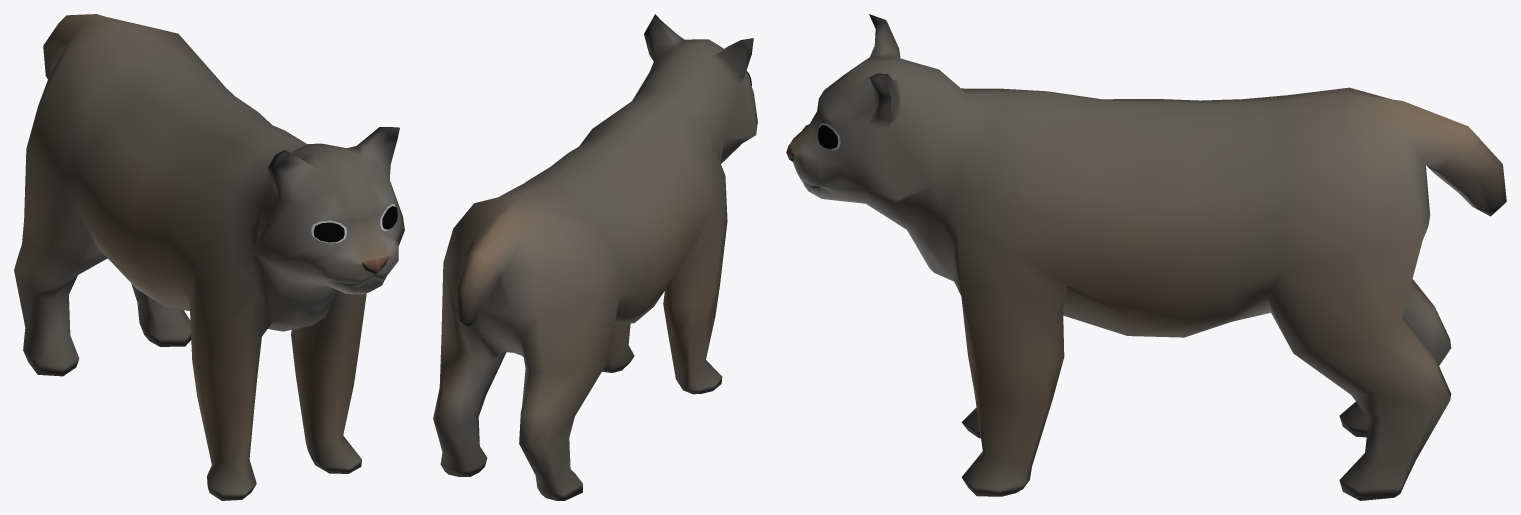
File: BobCat.gltf
The picture shows the model from 3 angles, left to right: view 1: azimuth 30°, elevation 25°; view 2: azimuth 150°, elevation 25°; view 3: azimuth 270°, elevation 25°; orthographic projection. The views are drawn at different scales.
Parts seen in each view (by area): view 1: base.054; view 2: base.054; view 3: base.054.
Part boxes in pixels (bbox=[...]): base.054: bbox=[14, 14, 404, 500]; base.054: bbox=[433, 14, 757, 500]; base.054: bbox=[786, 14, 1506, 500].
Size of the model in its own units: 0.3374 by 0.6531 by 1.03.
